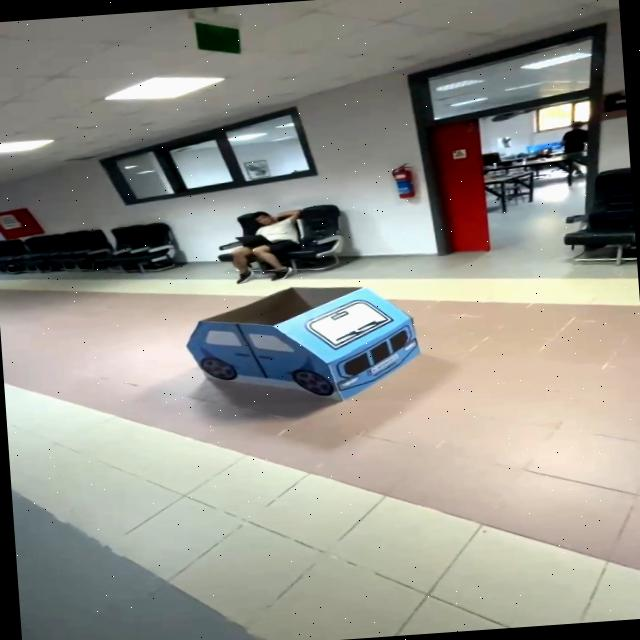blue_car: (176, 271, 432, 421)
